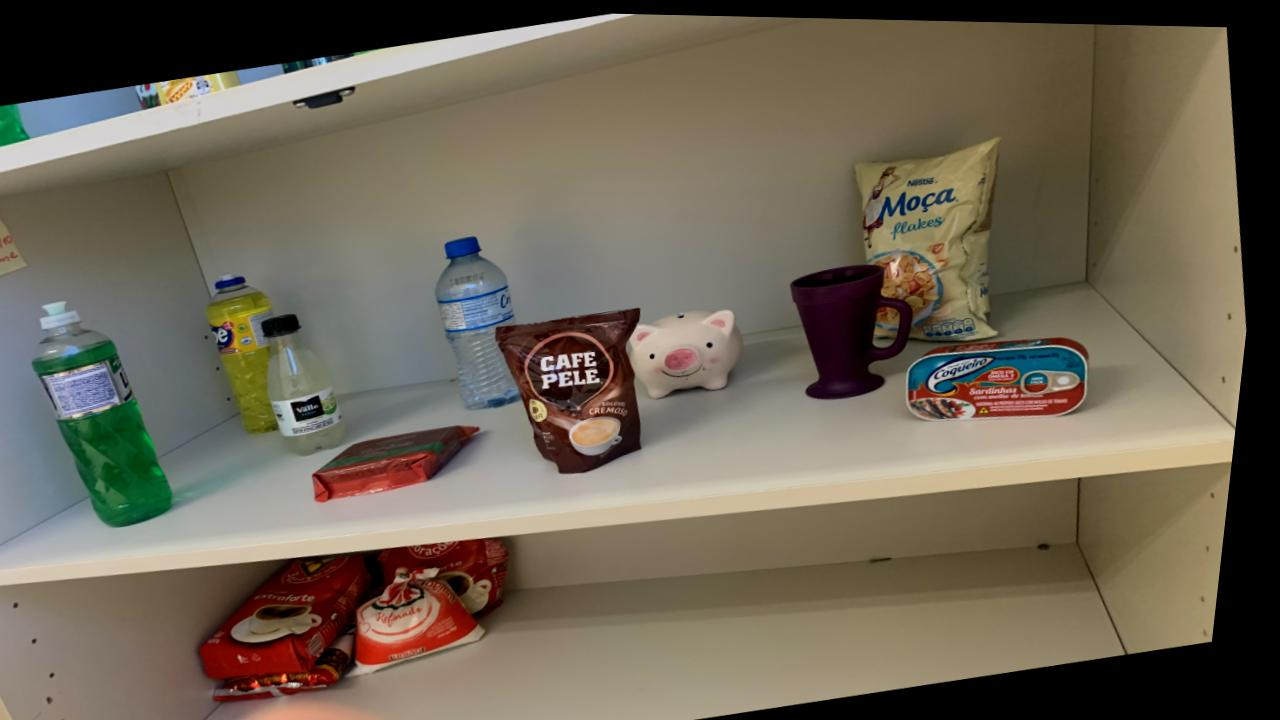Coffee-Pantry_Items: (503, 304, 650, 470)
Detergent-Cleanup_Items: (40, 300, 184, 525), (212, 275, 286, 432), (0, 103, 33, 147)
Flakes-Snacks: (859, 133, 1003, 338)
Guarana_Can-Drinks: (282, 51, 355, 72)
Guava-Snacks: (323, 423, 489, 499)
Mustard-Pantry_Items: (157, 69, 241, 104)
Pig_Safe-Miscellaneous: (636, 305, 750, 395)
Soda-Drinks: (269, 311, 356, 453)
Tomato_Sauce-Pantry_Items: (135, 81, 162, 107)
Tuna_Can-Pantry_Items: (914, 331, 1096, 416)
Water_Bottle-Drinks: (441, 234, 529, 407)
